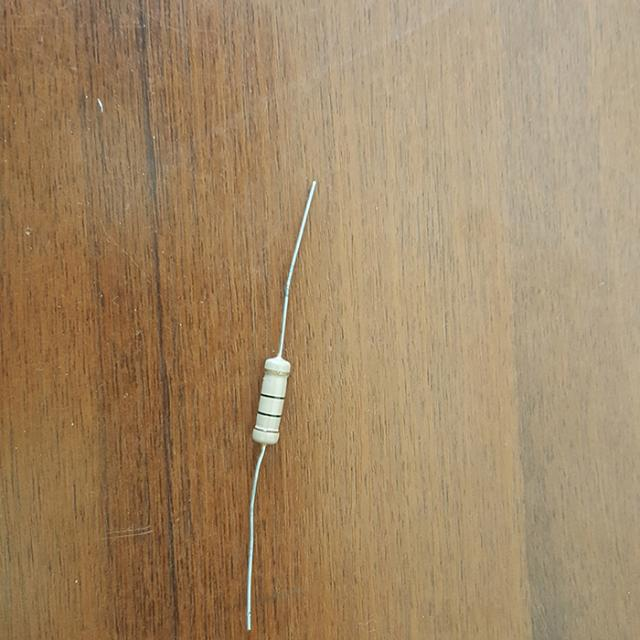black: (258, 411, 281, 418), (262, 394, 284, 400)
brown: (255, 428, 279, 435)
gold: (265, 369, 289, 375)
resistor: (238, 348, 302, 454)
